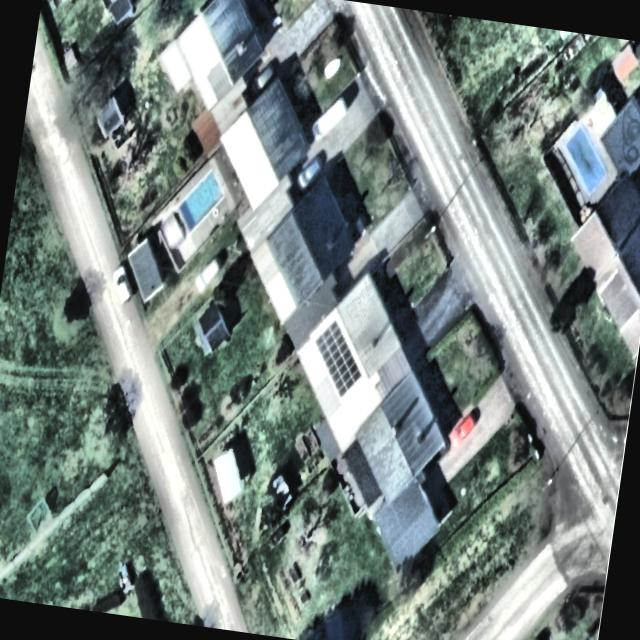roof_pv: (305, 310, 373, 402)
